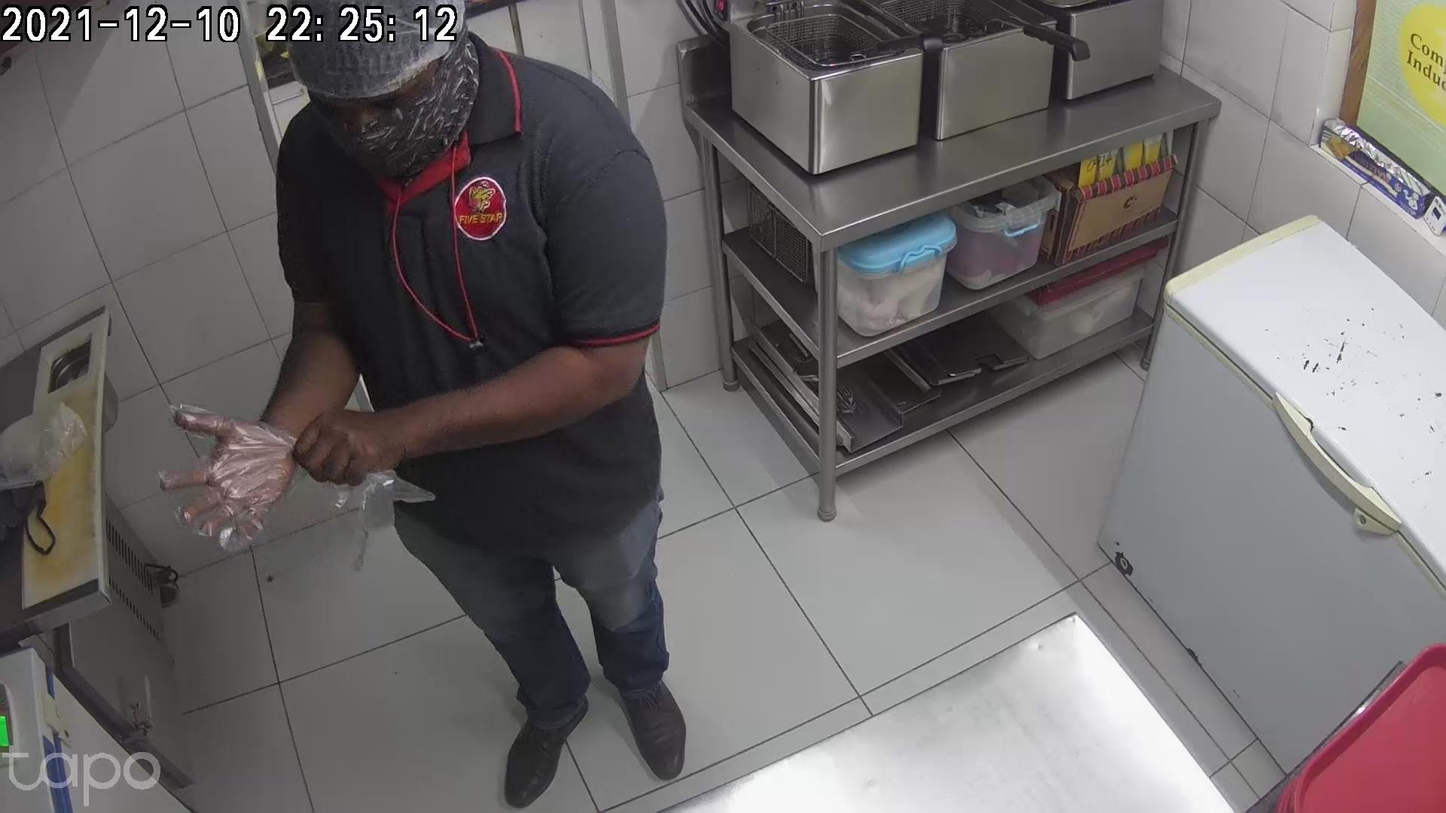gloves: (158, 407, 292, 548)
no_gloves: (295, 407, 435, 485)
